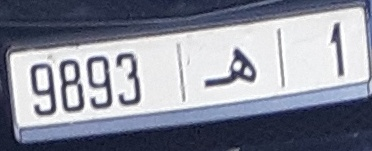1: (327, 20, 348, 77)
3: (115, 52, 142, 106)
8: (58, 59, 85, 113)
9: (29, 63, 57, 117), (86, 56, 113, 110)
h: (202, 44, 258, 88)
